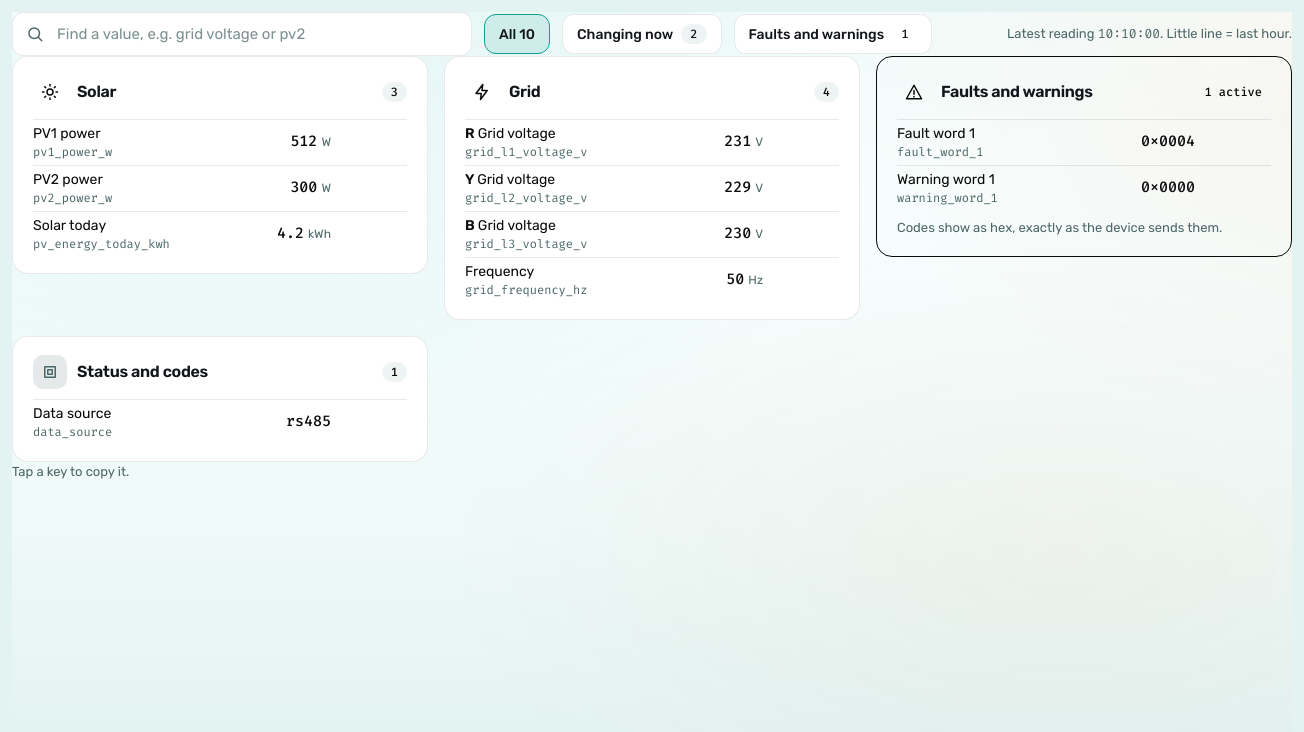
Test: AllValuesTab › V8 clicking a key copies it
Click the button "pv1_power_w" at (73, 152), box [33,144,112,160]
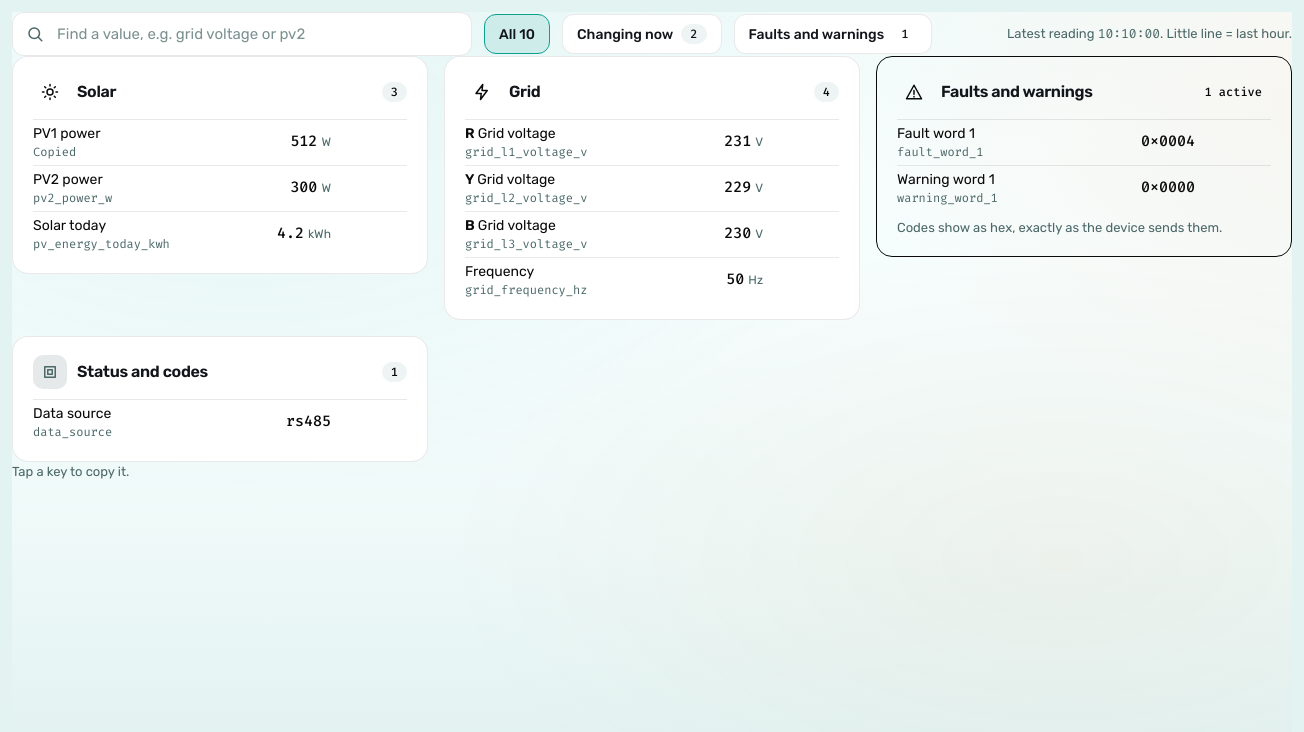
Expected: the button "Copied" is shown, [33,144,76,160]
